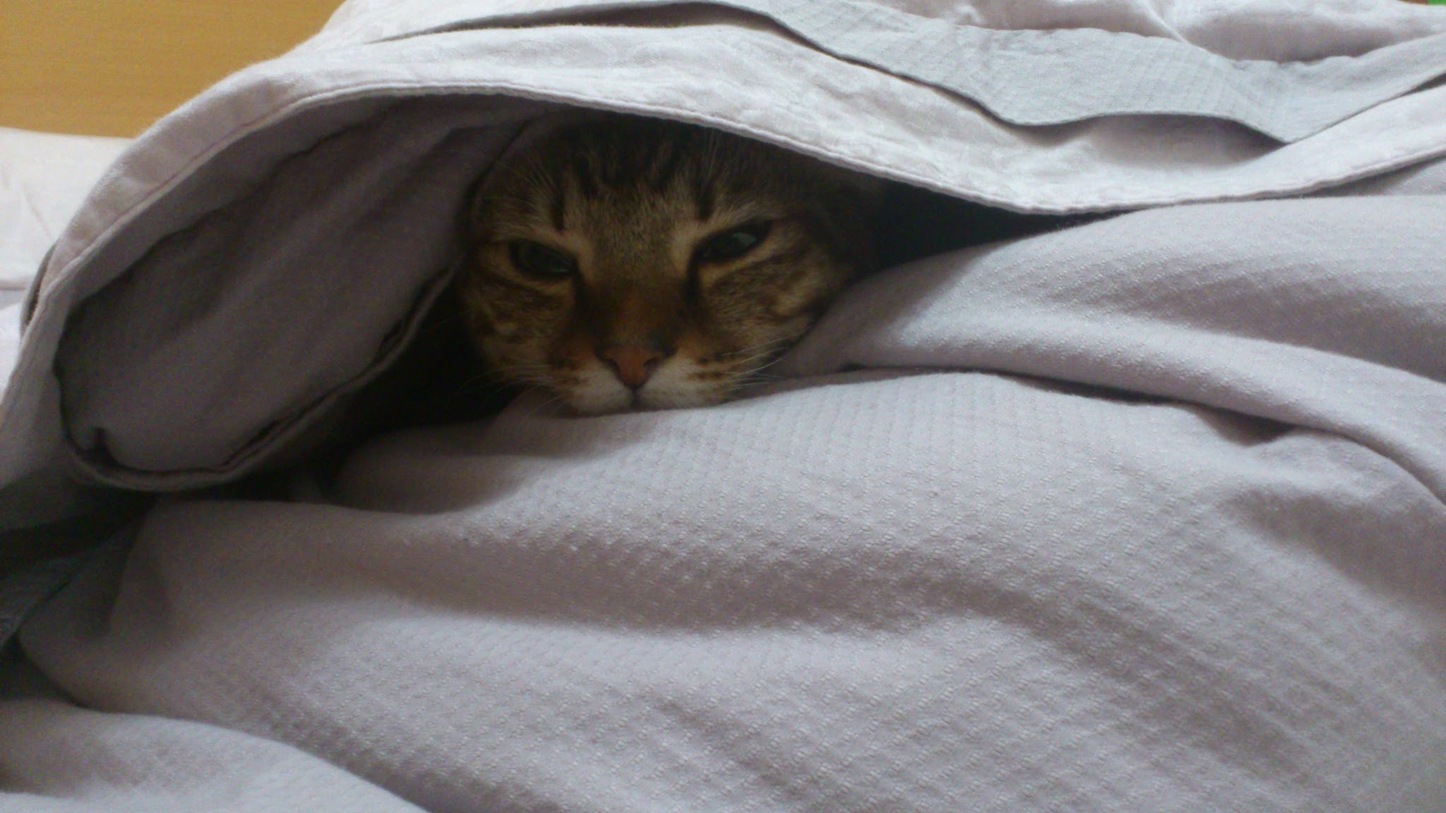cat: (453, 114, 892, 418)
